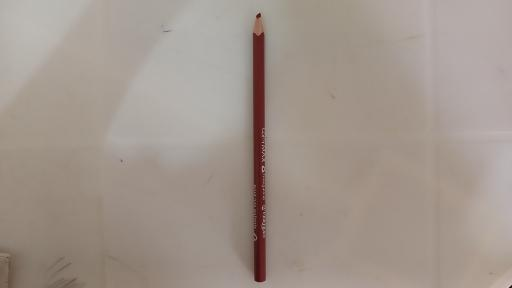Pencil: (253, 11, 266, 286)
